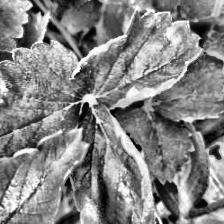Powdery Mildew Leaf: (69, 7, 204, 111), (67, 102, 160, 224), (0, 39, 85, 165)
